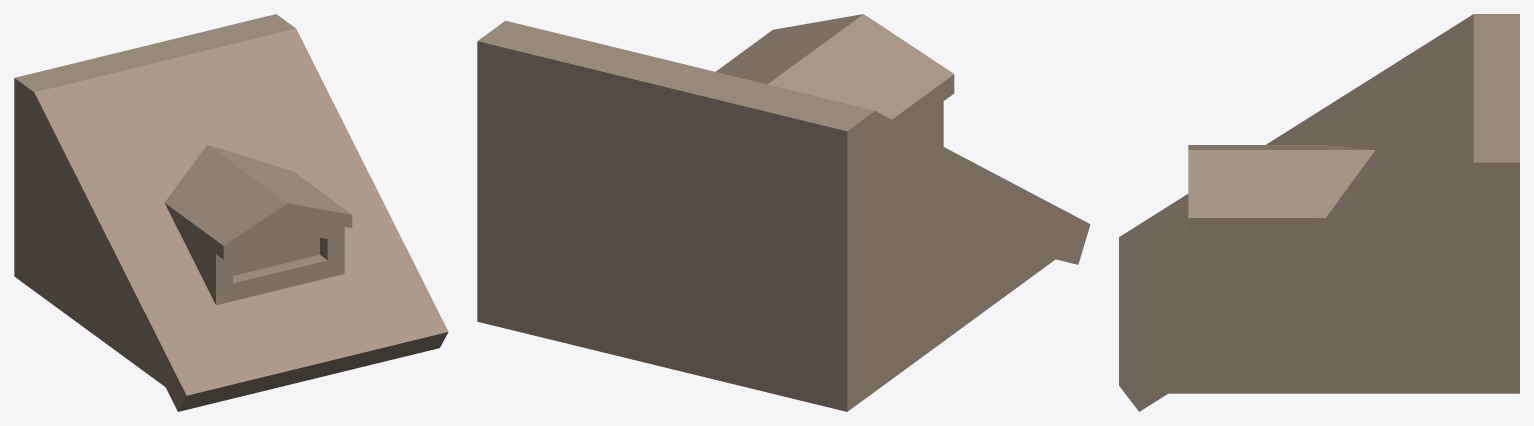
File: roof-slanted-window.obj
3 renders of one model, left to right at view 1: azimuth 30°, elevation 25°; view 2: azimuth 150°, elevation 25°; view 3: azimuth 270°, elevation 25°, orthographic. The views are drawn at different scales.
Size of the model in its own units: 1 by 0.782 by 1.14.
